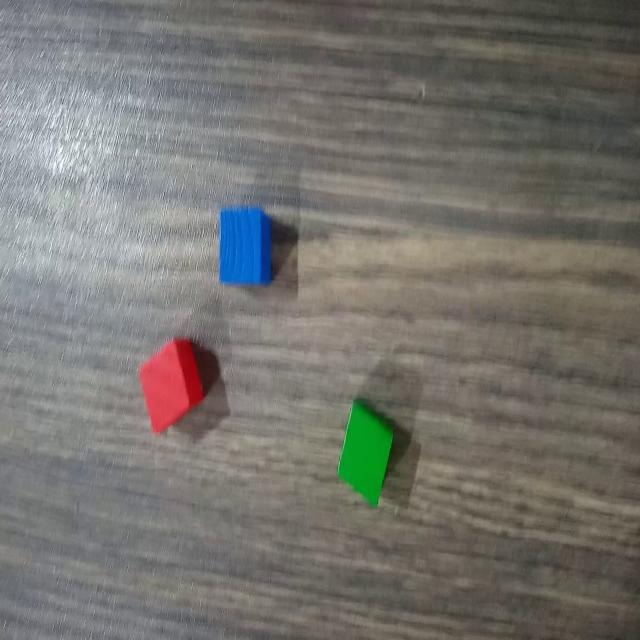cube: (334, 392, 397, 509), (137, 334, 207, 436), (215, 203, 276, 291)
